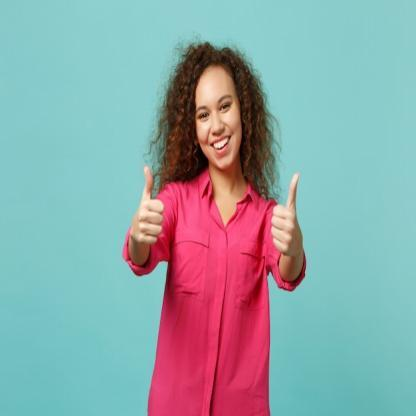thumb_up: (271, 166, 302, 262), (132, 162, 166, 246)
